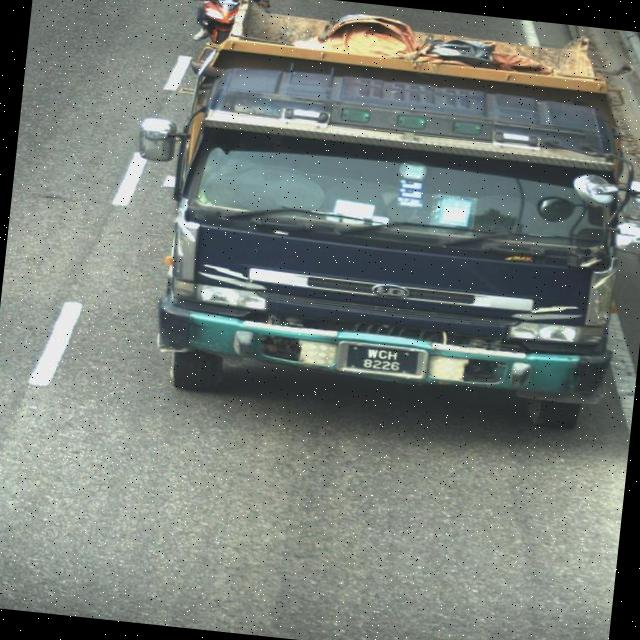License_Plate: (335, 336, 429, 386)
lorry: (105, 1, 640, 459)
